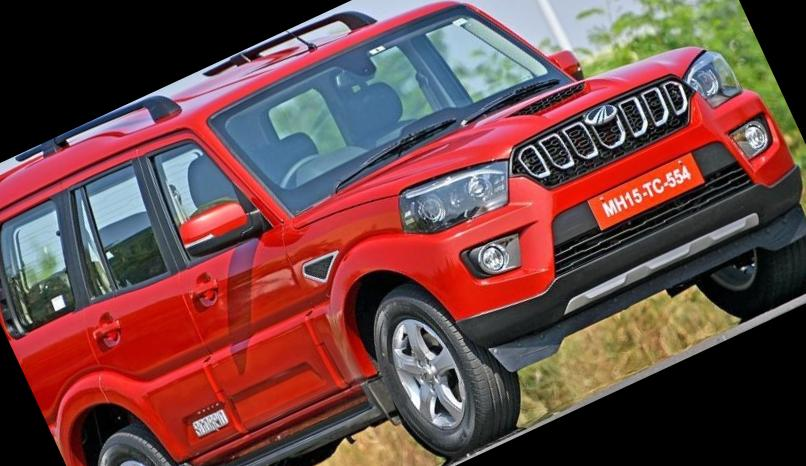plate: (582, 145, 709, 237)
